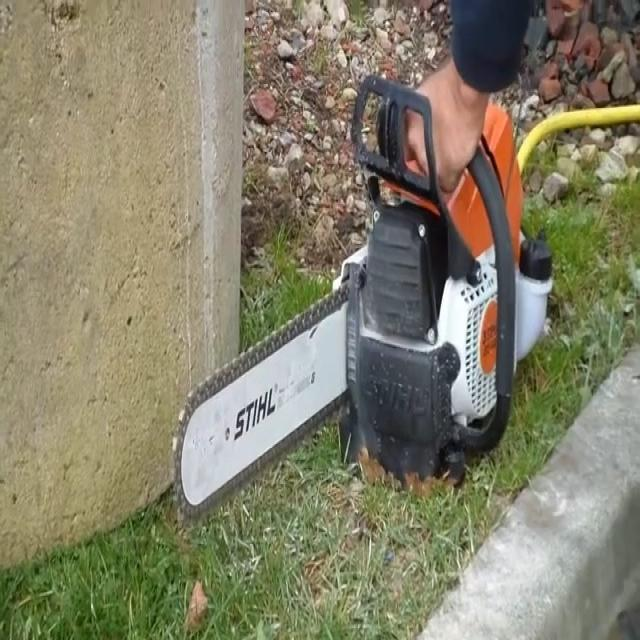Chainsaw: (151, 42, 570, 537)
